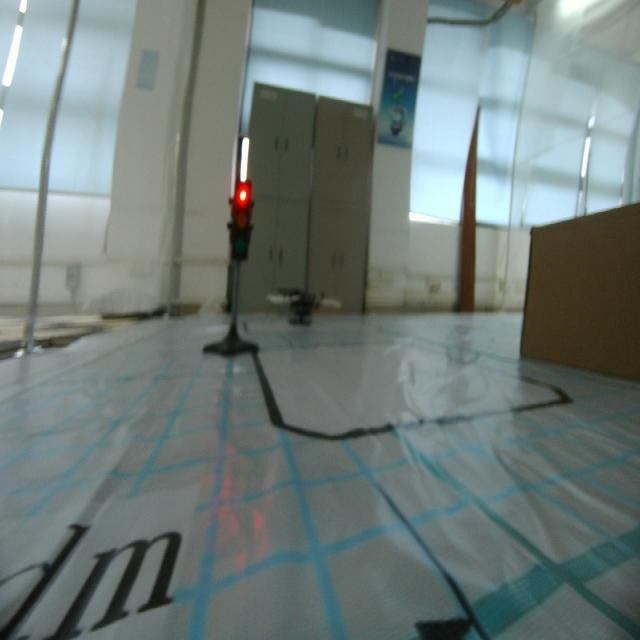red: (227, 171, 255, 266)
